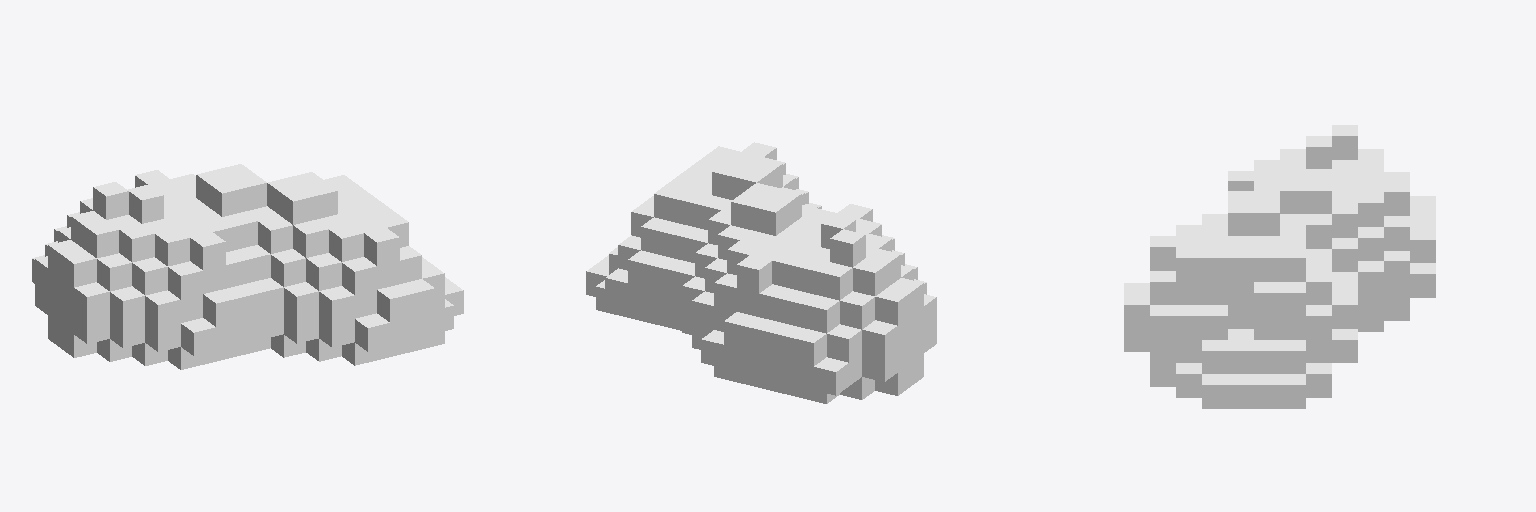
The model's file is map_Second_Stage-1.obj.
The picture shows the model from 3 angles: view 1: azimuth 30°, elevation 25°; view 2: azimuth 150°, elevation 25°; view 3: azimuth 270°, elevation 25°; orthographic projection.
Visible parts, largest first — view 1: object 1; view 2: object 1; view 3: object 1.
Boxes of the visible parts, box(x1,y1,x2,y2) form: object 1: box(32, 164, 463, 369); object 1: box(586, 142, 936, 403); object 1: box(1124, 125, 1435, 408).
Bounding box in the file's own units: 1.5 × 0.6 × 1.2.